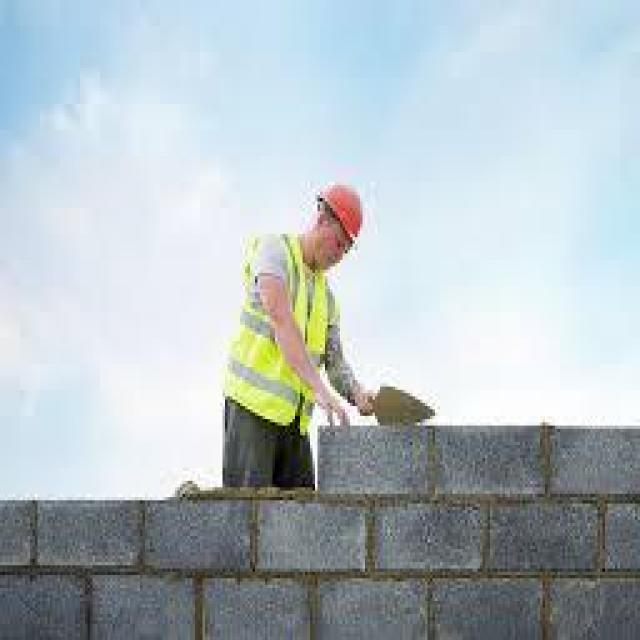Reflective-Jacket: (208, 227, 348, 445)
Safety-Helmet: (307, 172, 375, 260)
